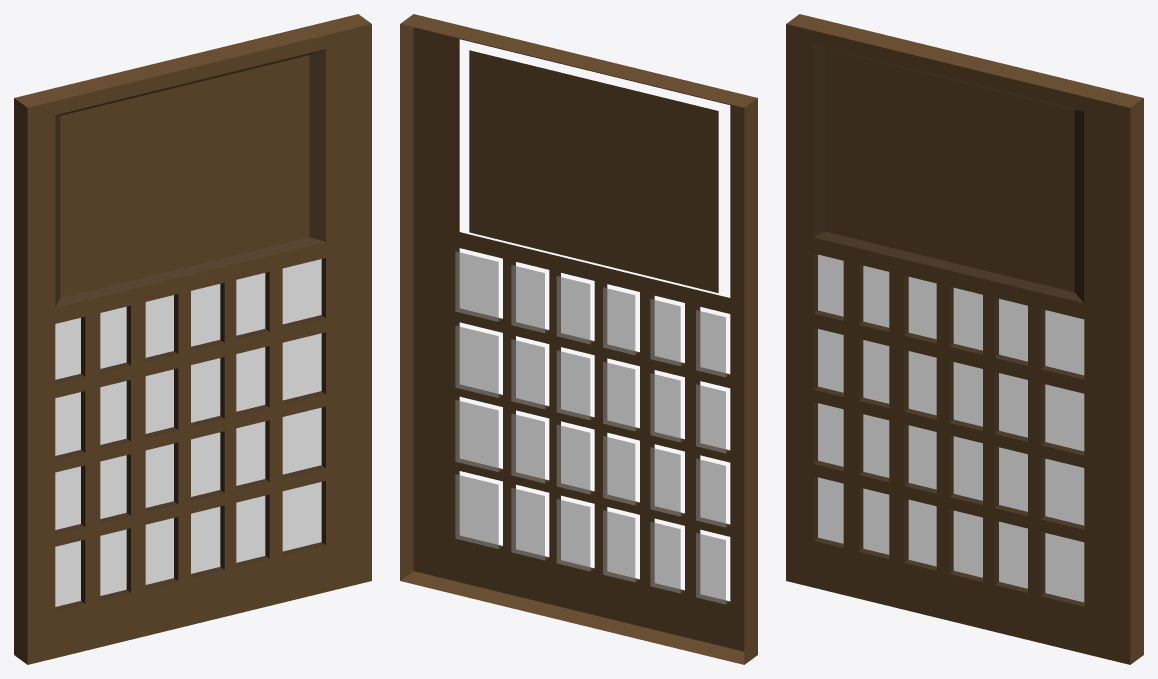
Rendered from left door.fbx.
3 renders of one model, left to right at view 1: azimuth 30°, elevation 25°; view 2: azimuth 150°, elevation 25°; view 3: azimuth 330°, elevation 25°, orthographic.
Visible parts, largest first — view 1: polySurface7; view 2: polySurface7; view 3: polySurface7.
Boxes of the visible parts, box(x1,y1,x2,y2) form: polySurface7: box(14, 14, 371, 664); polySurface7: box(400, 14, 757, 664); polySurface7: box(786, 14, 1143, 664).
Bounding box in the file's own units: 11.31 × 17.48 × 0.776.
